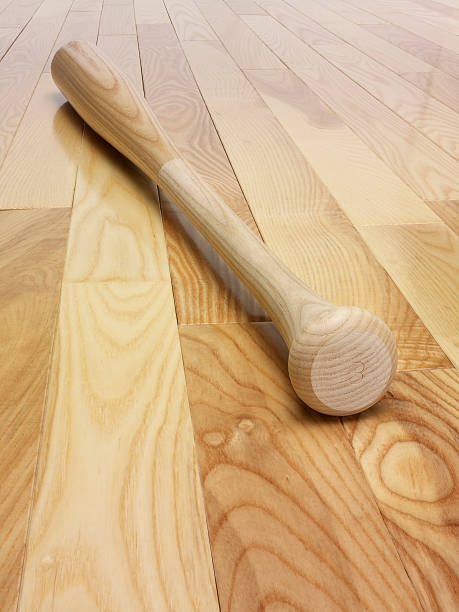bita: (55, 37, 399, 412)
